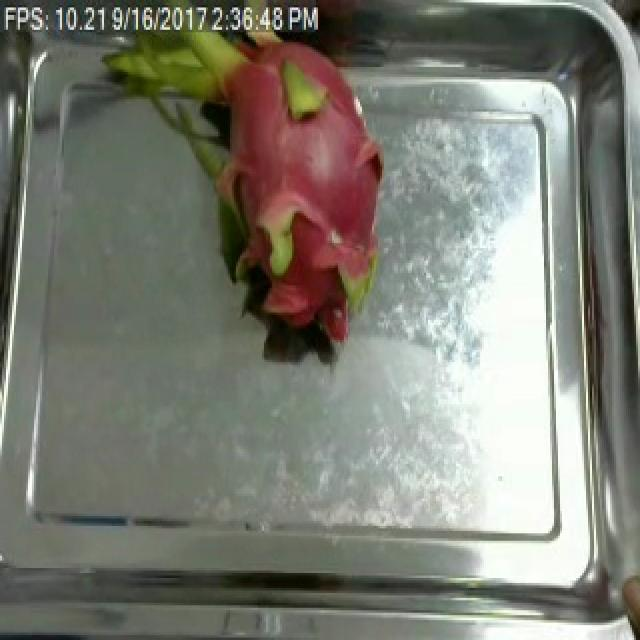fruit: (90, 2, 392, 360)
